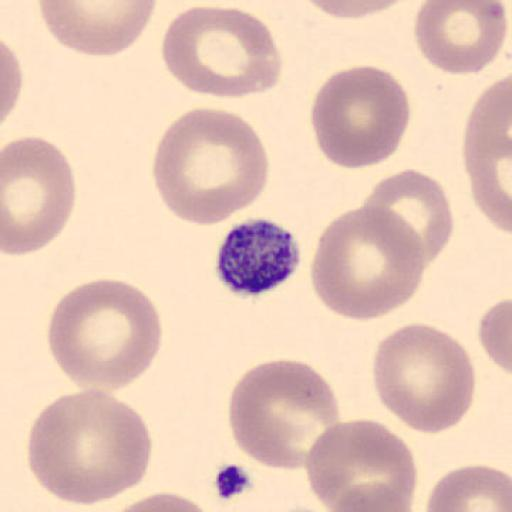Platelet: (212, 215, 304, 297), (210, 460, 258, 502)
RBC: (26, 386, 154, 507), (150, 105, 271, 228), (308, 203, 427, 322), (46, 278, 164, 392), (228, 358, 342, 473), (370, 321, 476, 435), (161, 5, 284, 101), (304, 416, 418, 512), (309, 64, 411, 170), (361, 167, 455, 266), (1, 135, 77, 256), (462, 76, 512, 237), (413, 0, 509, 76), (37, 0, 158, 58), (424, 462, 512, 512), (325, 478, 416, 512), (478, 294, 512, 376), (94, 491, 219, 512), (300, 0, 415, 20), (0, 37, 24, 129)
